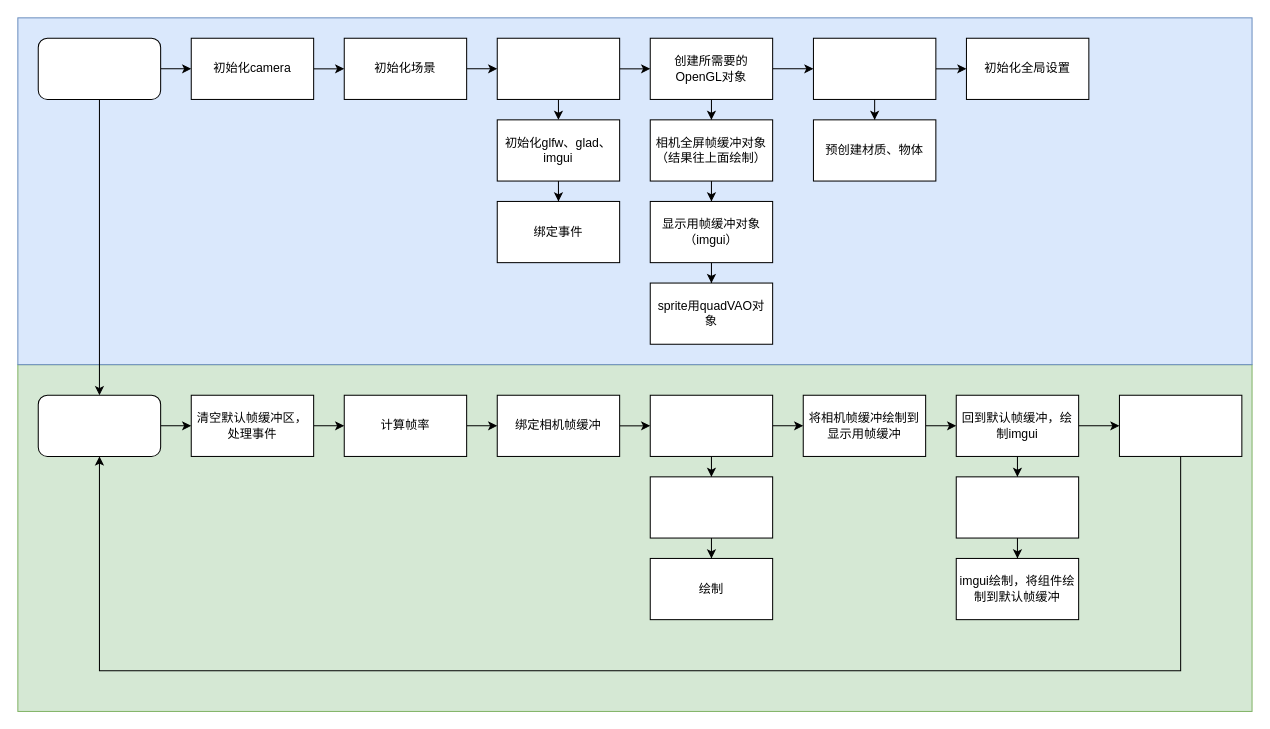
The diagram is 1270 pixels wide and 729 high, and some of its shapes have lost their labels. The box of each missing label's shape, as (x1, y1, x2, y2) in pixels:
update: (37, 394, 161, 456)
交换缓冲区: (1118, 394, 1242, 456)
创建窗口: (496, 37, 620, 99)
初始化: (37, 37, 161, 99)
加载关卡数据: (812, 37, 936, 99)
将显示用帧缓冲内容绑定到ImGui::Image: (955, 476, 1079, 538)
遍历场景: (649, 394, 773, 456)
遍历物体: (649, 476, 773, 538)
